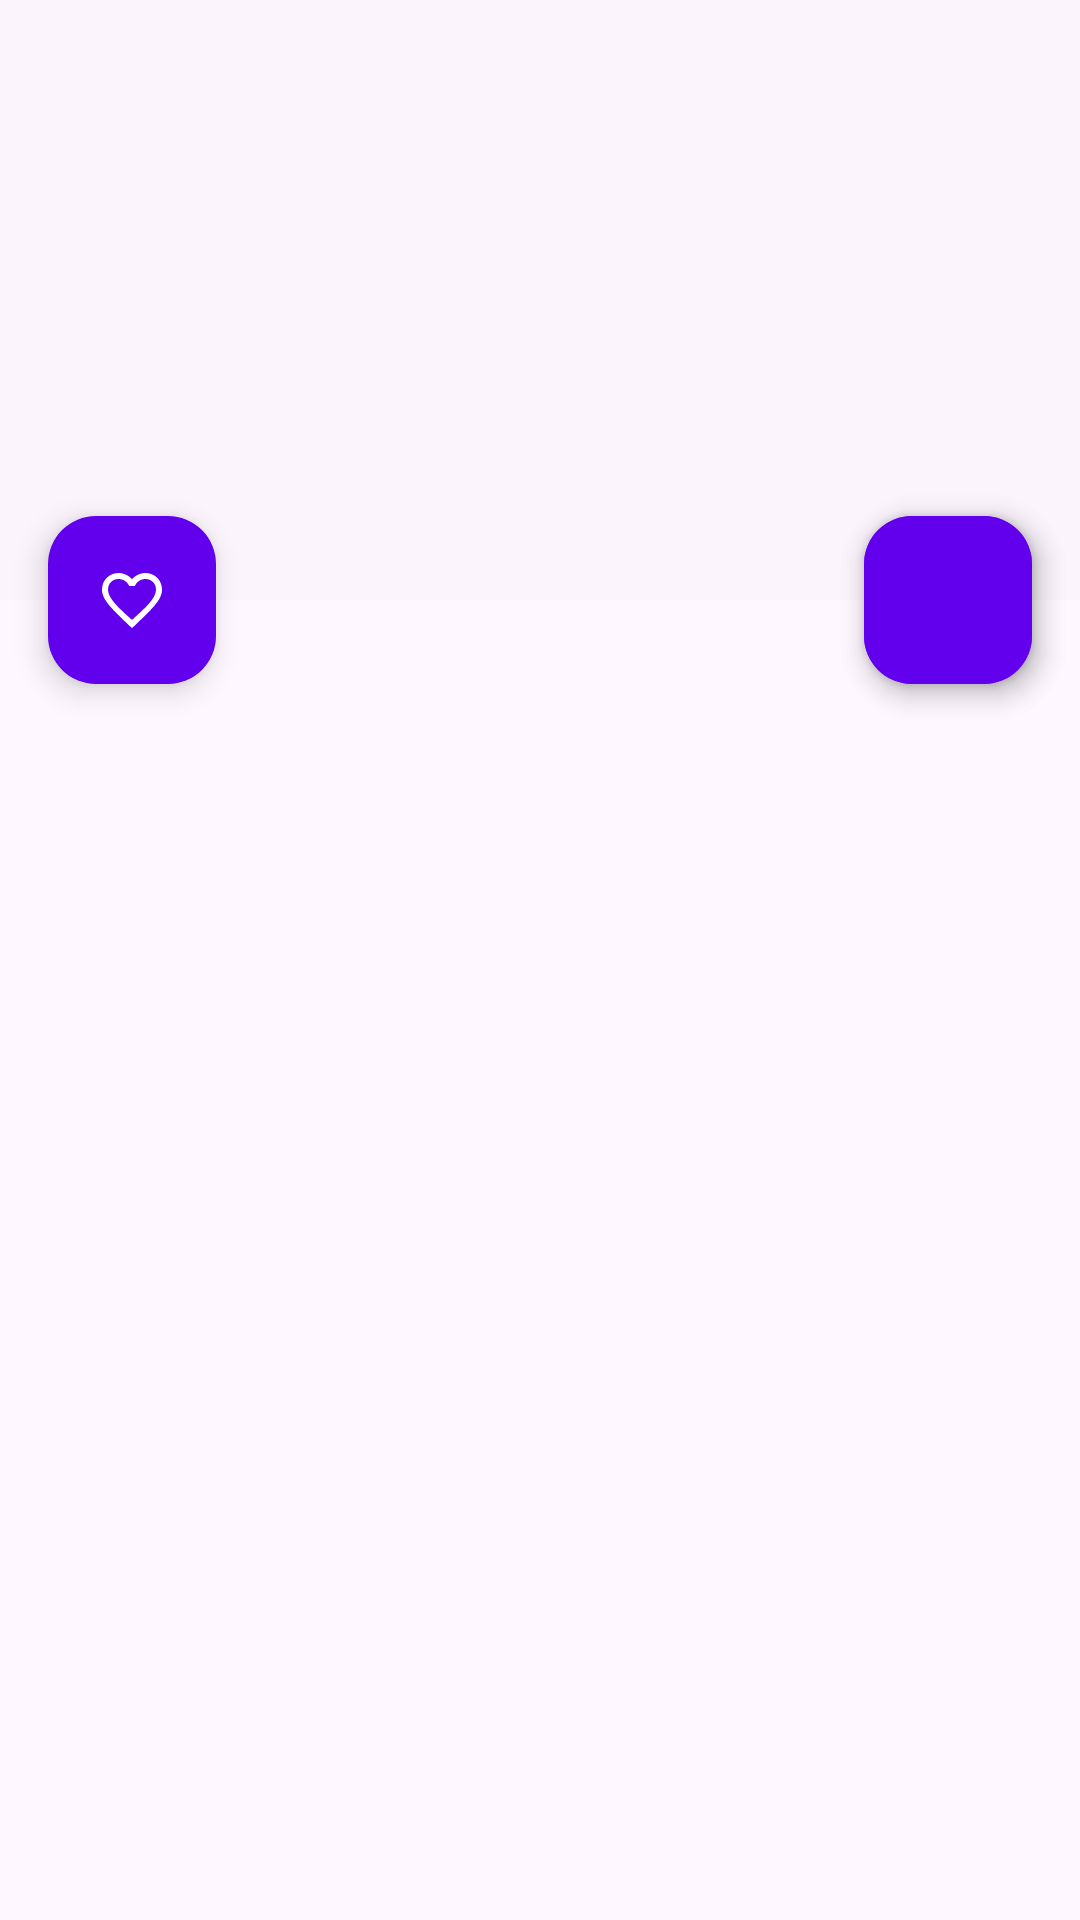

Icons on this 1080w x 1920h Android screen, each with its box as [x1, y1, x2, y2]:
favorite border: [48, 516, 216, 684]
